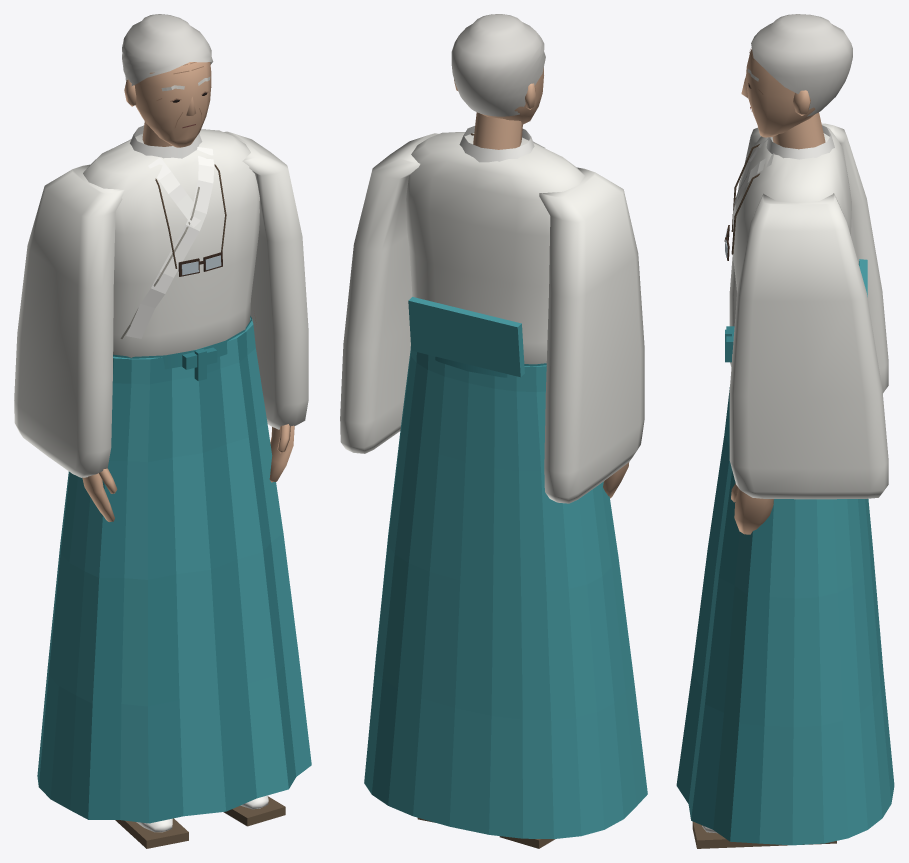
File: npc_shrine.glb
3 renders of one model, left to right at view 1: azimuth 30°, elevation 25°; view 2: azimuth 150°, elevation 25°; view 3: azimuth 270°, elevation 25°, orthographic. The views are drawn at different scales.
Parts seen in each view (by area): view 1: body, face, hair; view 2: body, hair, face; view 3: body, hair, face.
Boxes of the visible parts, x1,y1,x2,y2 form: body: (14, 125, 311, 848); face: (124, 62, 211, 147); hair: (122, 14, 213, 86); body: (340, 126, 647, 848); hair: (451, 14, 545, 116); face: (454, 67, 543, 149); body: (676, 123, 894, 848); hair: (751, 14, 852, 116); face: (741, 48, 825, 149).
Size of the model in its own units: 0.54 by 1.68 by 0.417.
